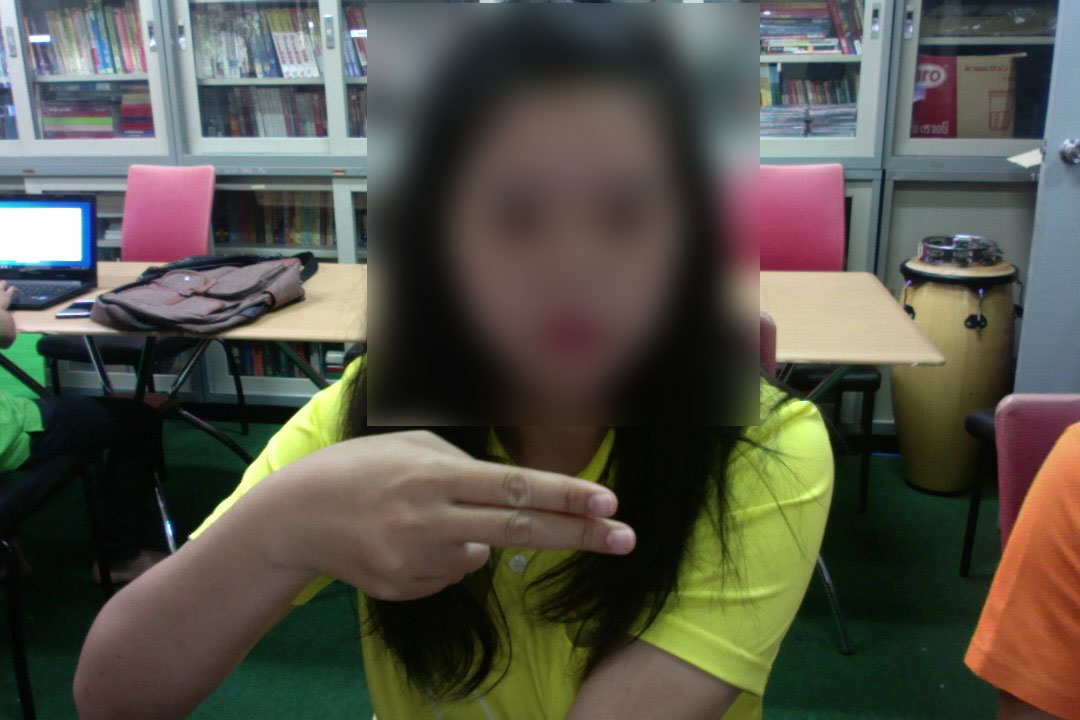hor: (281, 423, 644, 608)
